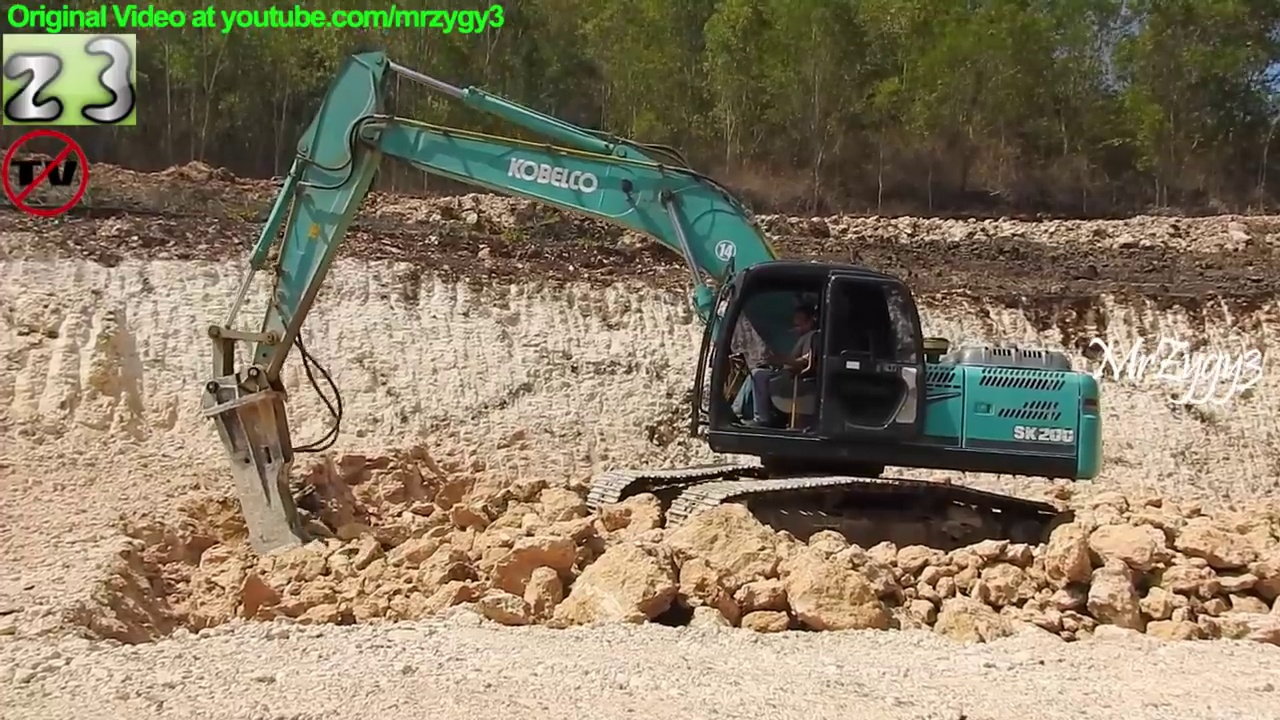excavator breaker: (195, 48, 1107, 571)
